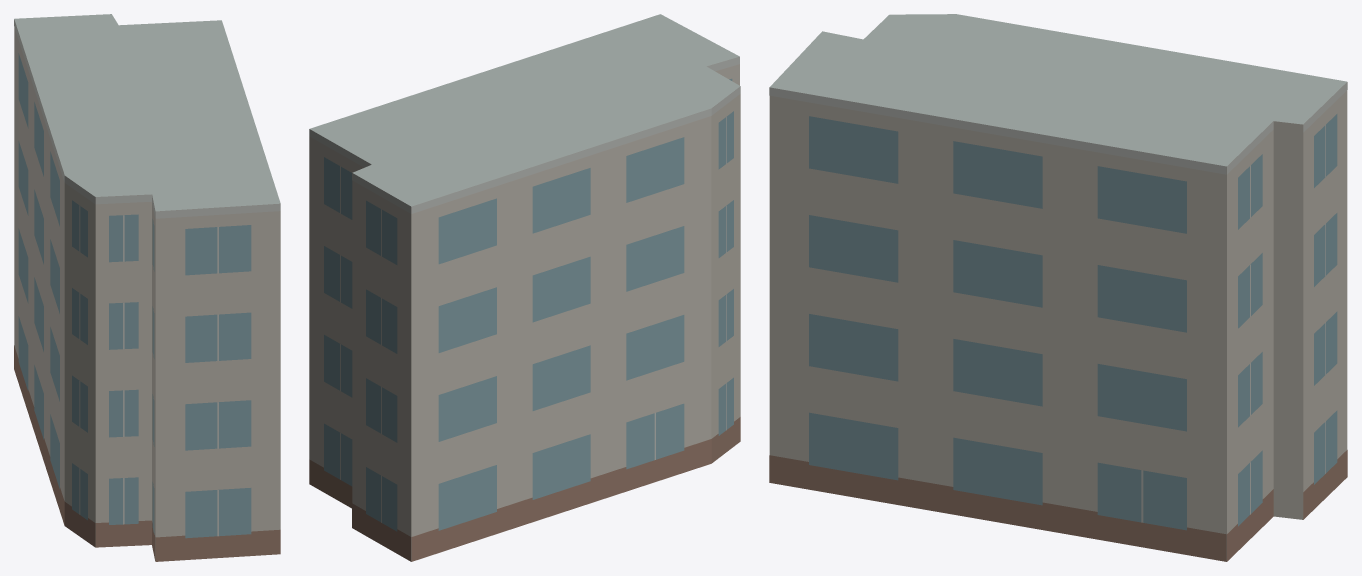
Rendered from survey-upis-33018171.glb.
3 views of the same model, side by side, from view 1: azimuth 30°, elevation 25°; view 2: azimuth 150°, elevation 25°; view 3: azimuth 270°, elevation 25° (orthographic). The views are drawn at different scales.
Visible parts, largest first — view 1: survey-upis-33018171.tmp; view 2: survey-upis-33018171.tmp; view 3: survey-upis-33018171.tmp.
Part boxes in pixels (box(x1,y1,x2,y2)): survey-upis-33018171.tmp: box(14, 14, 280, 561); survey-upis-33018171.tmp: box(309, 14, 740, 561); survey-upis-33018171.tmp: box(769, 14, 1347, 561).
Bounding box in the file's own units: 9.6 × 11.6 × 15.38.
